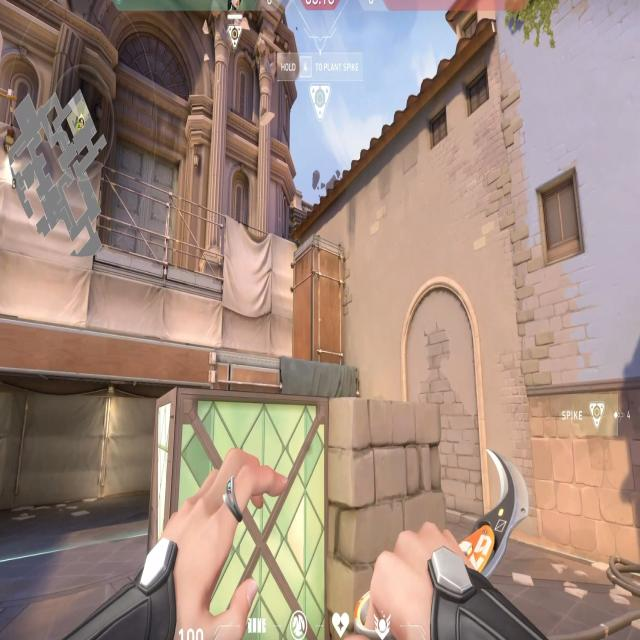A_Heaven_Box: (292, 251, 348, 370)
A_Hell: (0, 370, 237, 572)
A_Site_Box: (157, 399, 440, 640)
